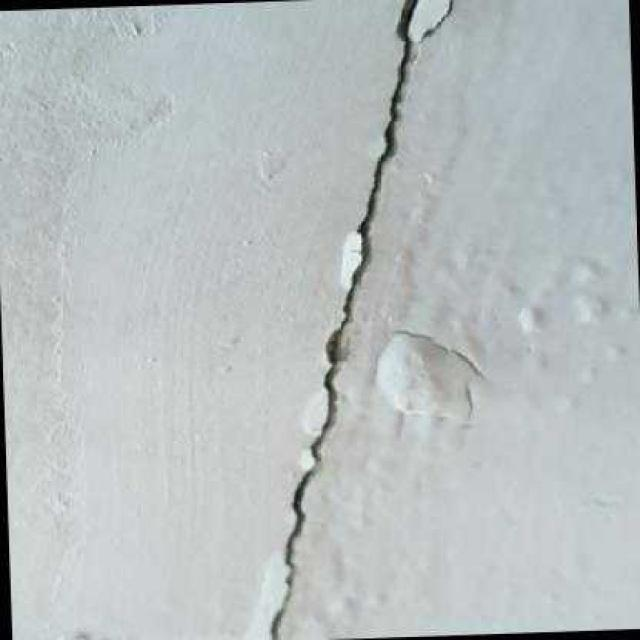D00: (263, 0, 456, 640)
